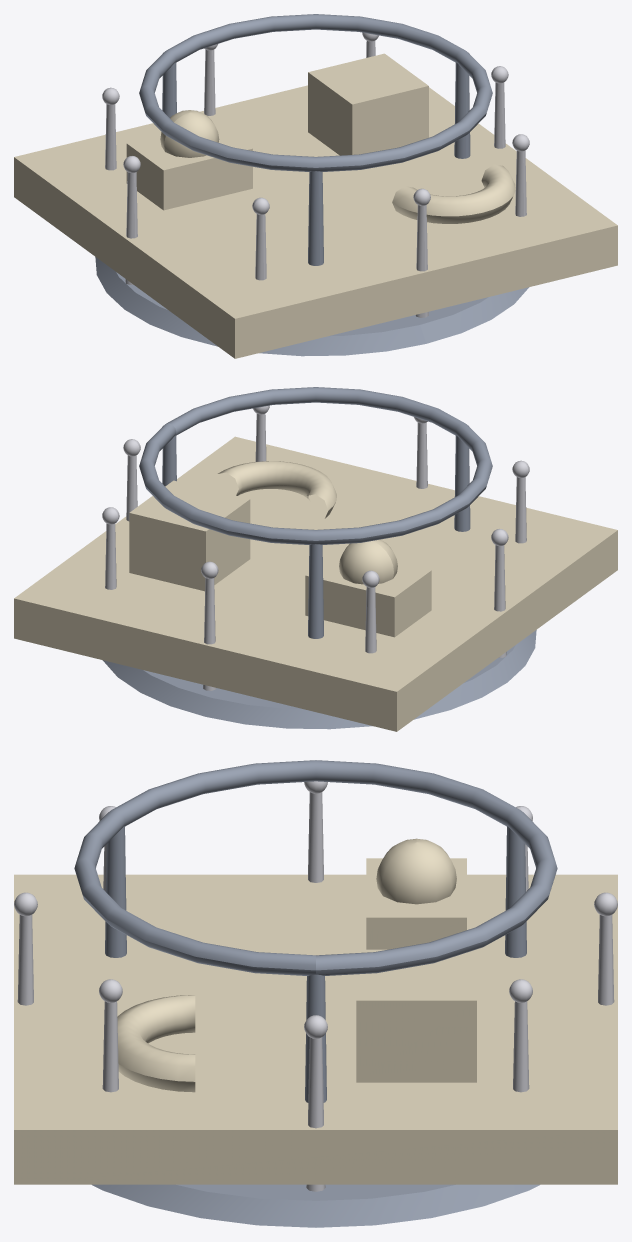
The model's file is world04-arena.glb.
3 renders of one model, top to bottom at view 1: azimuth 30°, elevation 25°; view 2: azimuth 150°, elevation 25°; view 3: azimuth 270°, elevation 25°, orthographic. The views are drawn at different scales.
Parts seen in each view (by area): view 1: SM_Arena_CampusNexus, SM_Arena_MainStage, SM_Arena_LightPylons; view 2: SM_Arena_CampusNexus, SM_Arena_MainStage, SM_Arena_LightPylons; view 3: SM_Arena_CampusNexus, SM_Arena_MainStage, SM_Arena_LightPylons.
Boxes of the visible parts, bbox=[...] form: SM_Arena_CampusNexus: bbox=[14, 53, 617, 358]; SM_Arena_MainStage: bbox=[95, 14, 529, 356]; SM_Arena_LightPylons: bbox=[102, 32, 529, 317]; SM_Arena_CampusNexus: bbox=[14, 436, 617, 731]; SM_Arena_MainStage: bbox=[102, 387, 536, 729]; SM_Arena_LightPylons: bbox=[102, 405, 529, 690]; SM_Arena_CampusNexus: bbox=[14, 838, 617, 1184]; SM_Arena_MainStage: bbox=[74, 760, 557, 1227]; SM_Arena_LightPylons: bbox=[14, 781, 617, 1191].
Size of the model in its own units: 2 by 0.8824 by 2.
